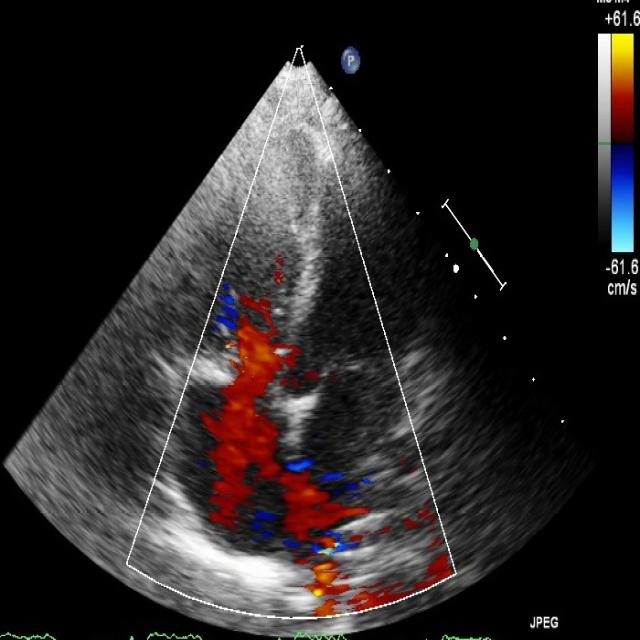ASDType2: (276, 463, 345, 539)
